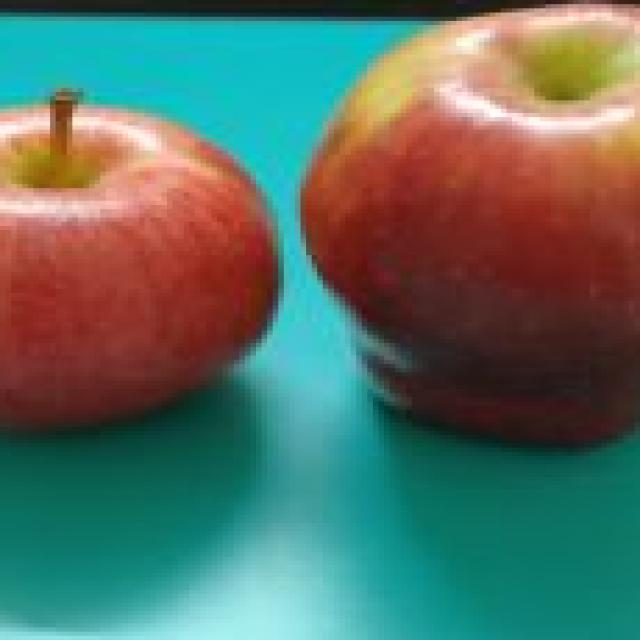Good_Apple 10-21 days: (303, 2, 640, 442), (0, 92, 278, 430)
